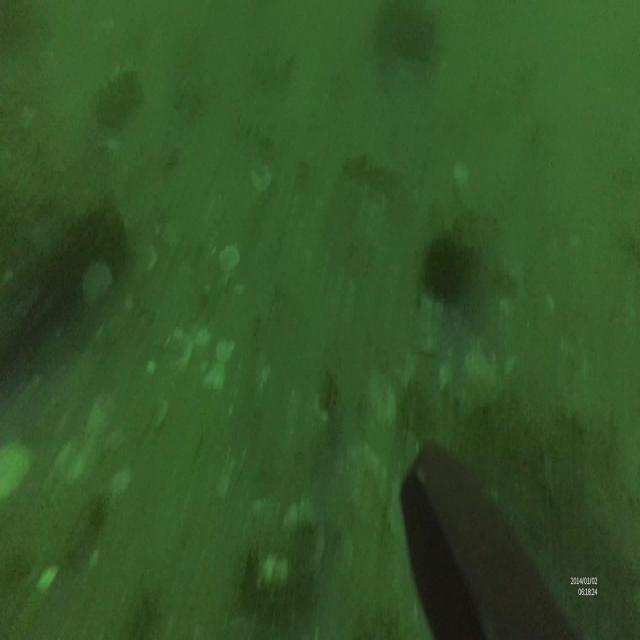echinus: (416, 232, 476, 300)
